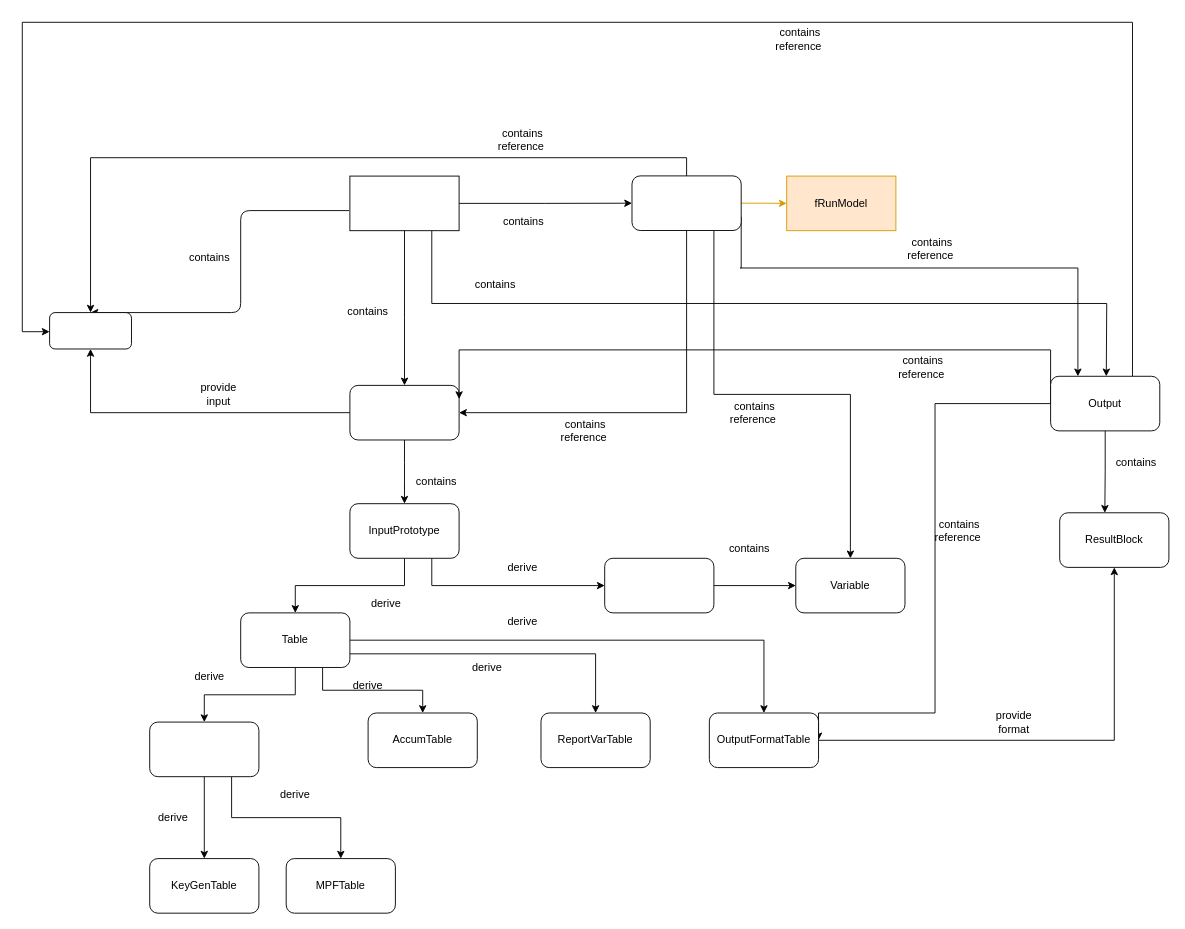
Image size: 1185x929. Some labels were removed from this diagram. Here are the shapes that lost their labels. From the top down, the centre of each, then its label:
At point 404,203: "Process".
At point 686,203: "VarNameSpace".
At point 90,330: "GlobalSettings".
At point 404,412: "Input".
At point 659,585: "Script".
At point 204,749: "GenTable".
